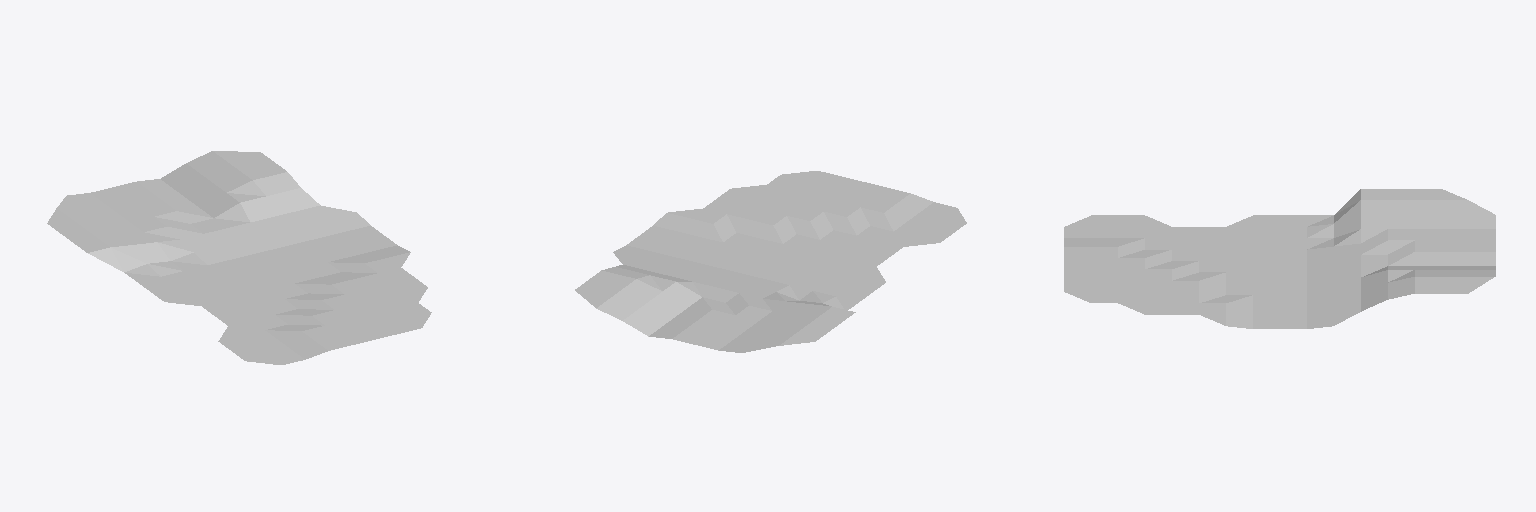
File: island1.obj
3 views of the same model, side by side, from view 1: azimuth 30°, elevation 25°; view 2: azimuth 150°, elevation 25°; view 3: azimuth 270°, elevation 25° (orthographic).
Parts seen in each view (by area): view 1: plane; view 2: plane; view 3: plane.
Part boxes in pixels (left/top/right/bottom): plane: left=47, top=151, right=431, bottom=364; plane: left=575, top=171, right=966, bottom=352; plane: left=1064, top=189, right=1495, bottom=328.
Bounding box in the file's own units: 5.5 × 0.4375 × 8.